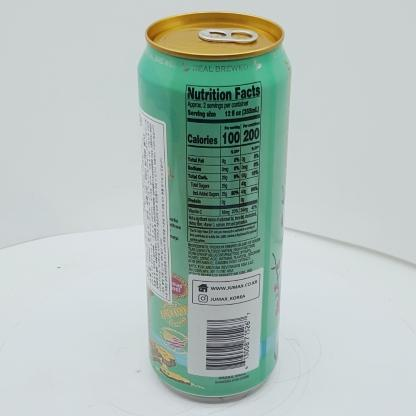-------------------680ML: (137, 11, 292, 397)
